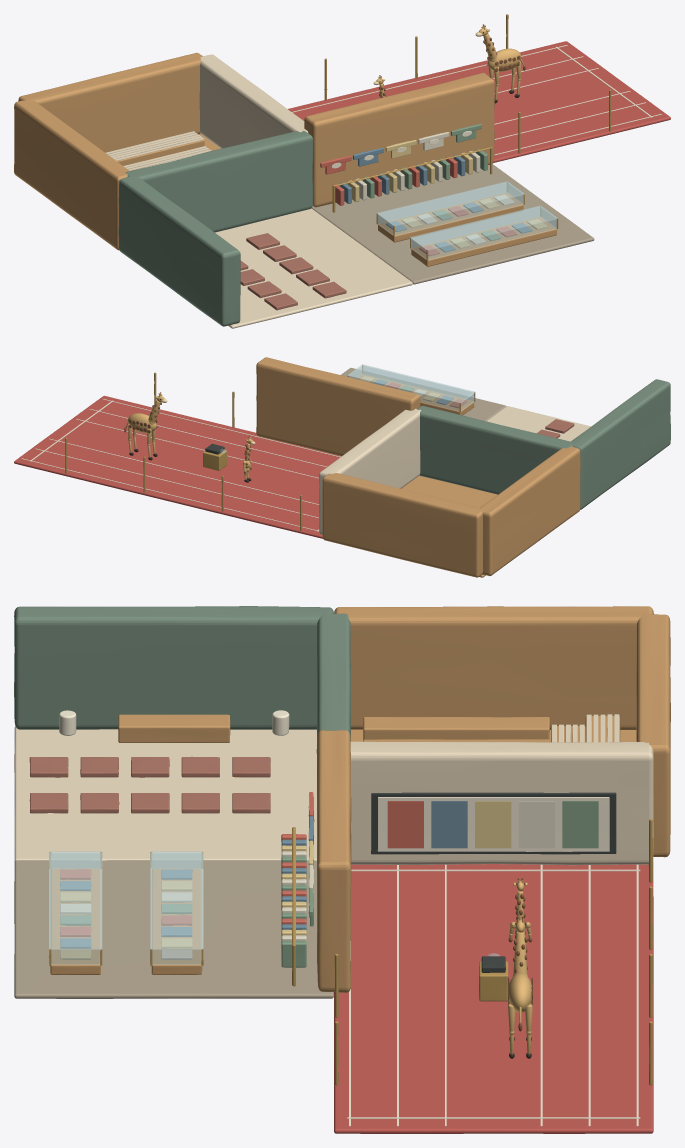
The model's file is riraji_displacement.glb.
The picture shows the model from 3 angles, top to bottom: view 1: azimuth 30°, elevation 25°; view 2: azimuth 150°, elevation 25°; view 3: azimuth 270°, elevation 25°; orthographic projection. The views are drawn at different scales.
Visible parts, largest first — view 1: Sports_Floor.001, Vintage_Tshirt_Wall.001, Vintage_Floor.001, Prayer_Back_Wall.001, Sauna_Back_Wall.001, Prayer_Left_Wall.001, Supporters_Floor.001, Sauna_Left_Wall.001, Shared_Sauna_Sports_Wall.001, Showcase_Top_Glass.002, Showcase_Top_Glass.003, Showcase_Base_0.001 (+6 smaller); view 2: Sports_Floor.001, Sauna_Back_Wall.001, Vintage_Tshirt_Wall.001, Prayer_Back_Wall.001, Sauna_Left_Wall.001, Prayer_Left_Wall.001, Shared_Sauna_Sports_Wall.001, Showcase_Top_Glass.002, Sauna_Floor.001, Supporters_Floor.001, Vintage_Floor.001, Showcase_Side_Glass.004 (+7 smaller); view 3: Sports_Floor.001, Prayer_Left_Wall.001, Sauna_Left_Wall.001, Supporters_Floor.001, Vintage_Floor.001, Shared_Sauna_Sports_Wall.001, Vintage_Tshirt_Wall.001, Sauna_Back_Wall.001, Showcase_Top_Glass.003, Showcase_Top_Glass.002, Projection_Screen.001, West_Bench_Tier_1.001 (+29 smaller).
Boxes of the visible parts, box(x1,y1,x2,y2) form: Sports_Floor.001: box(288, 41, 670, 162); Vintage_Tshirt_Wall.001: box(304, 73, 494, 207); Vintage_Floor.001: box(311, 164, 594, 284); Prayer_Back_Wall.001: box(125, 131, 313, 232); Sauna_Back_Wall.001: box(18, 52, 202, 152); Prayer_Left_Wall.001: box(118, 176, 240, 326); Supporters_Floor.001: box(215, 208, 412, 328); Sauna_Left_Wall.001: box(14, 100, 129, 250); Shared_Sauna_Sports_Wall.001: box(199, 54, 307, 148); Showcase_Top_Glass.002: box(410, 205, 558, 250); Showcase_Top_Glass.003: box(376, 181, 524, 225); Showcase_Base_0.001: box(411, 217, 556, 266); Sports_Floor.001: box(14, 395, 341, 538); Sauna_Back_Wall.001: box(322, 473, 483, 577); Vintage_Tshirt_Wall.001: box(256, 357, 420, 456); Prayer_Back_Wall.001: box(417, 405, 573, 494); Sauna_Left_Wall.001: box(480, 446, 580, 576); Prayer_Left_Wall.001: box(571, 379, 670, 509); Shared_Sauna_Sports_Wall.001: box(319, 408, 421, 534); Showcase_Top_Glass.002: box(347, 364, 475, 402); Sauna_Floor.001: box(401, 475, 497, 577); Supporters_Floor.001: box(486, 406, 591, 441); Vintage_Floor.001: box(341, 368, 506, 421); Showcase_Side_Glass.004: box(363, 365, 474, 400); Sports_Floor.001: box(334, 862, 653, 1133); Prayer_Left_Wall.001: box(14, 606, 333, 729); Sauna_Left_Wall.001: box(334, 606, 653, 729); Supporters_Floor.001: box(14, 726, 316, 861); Vintage_Floor.001: box(14, 860, 333, 998); Shared_Sauna_Sports_Wall.001: box(350, 741, 653, 865); Vintage_Tshirt_Wall.001: box(317, 730, 351, 992); Sauna_Back_Wall.001: box(636, 614, 670, 857); Showcase_Top_Glass.003: box(150, 851, 203, 949); Showcase_Top_Glass.002: box(49, 851, 102, 949); Projection_Screen.001: box(377, 797, 609, 851); West_Bench_Tier_1.001: box(363, 717, 549, 739).
Bounding box in the file's own units: 36.67 × 5.65 × 24.67.
